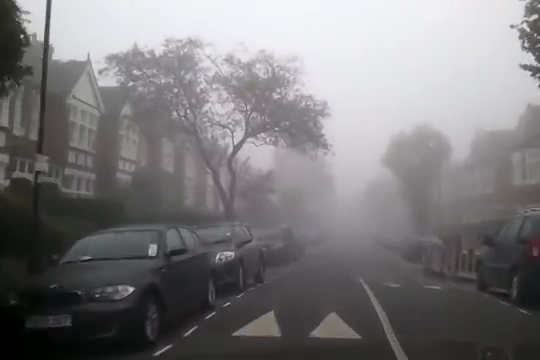car: (16, 222, 218, 351), (469, 205, 540, 308), (176, 222, 269, 292), (243, 224, 309, 267)
